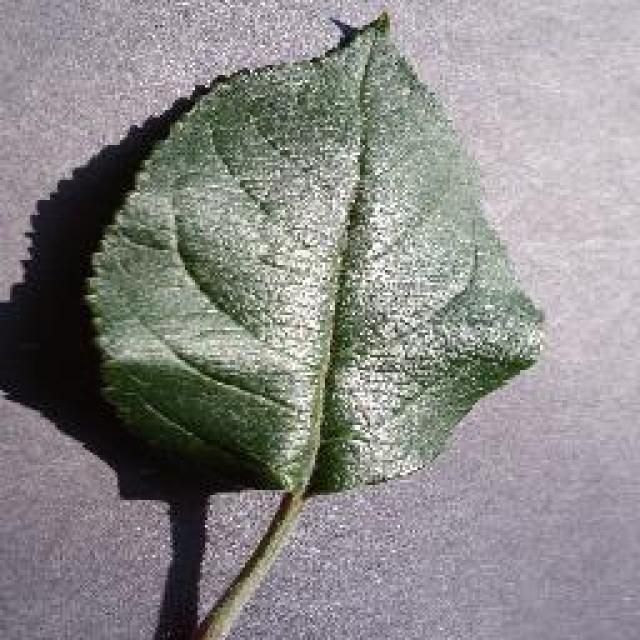apple healthy: (78, 8, 548, 498)
